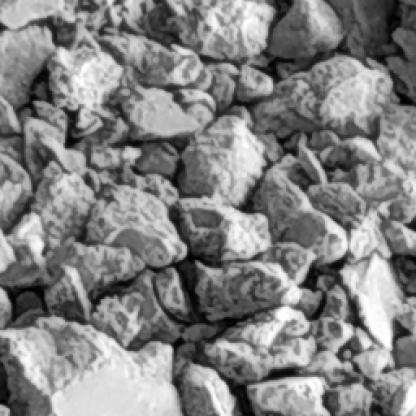cementitious_debris: (3, 2, 414, 413)
